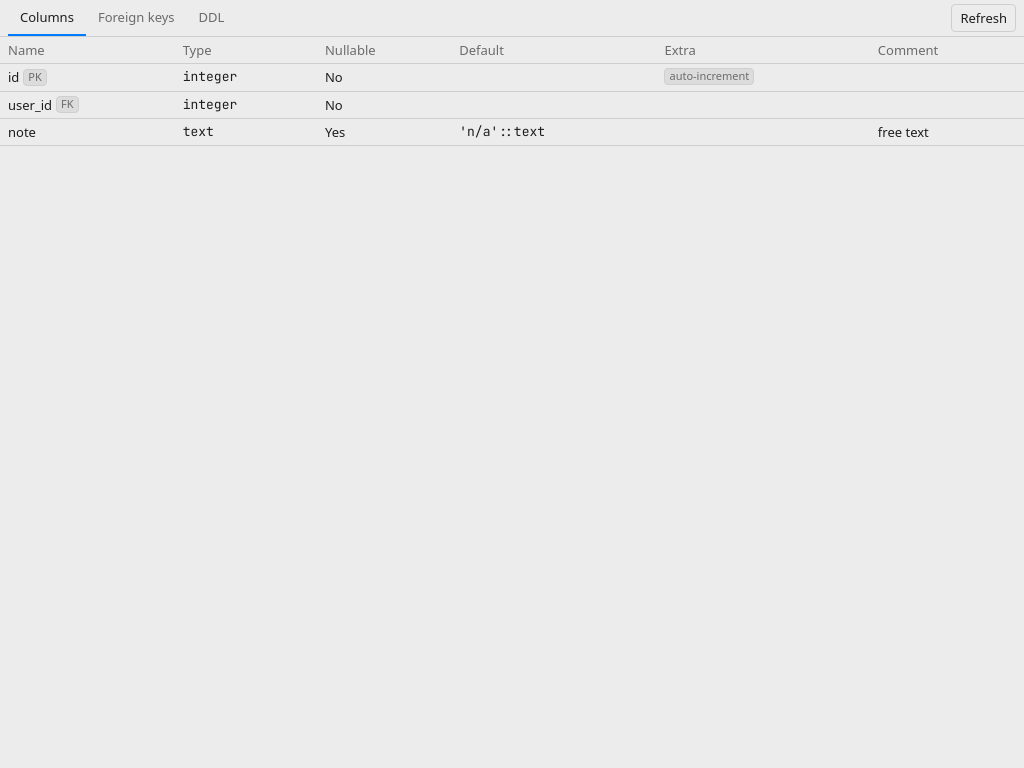
Test: the DDL uses the editor font settings like the SQL editor
This screenshot has width=1024, height=768.
Click the tab "DDL": coordinates (212, 18) 187,0 -> 236,36
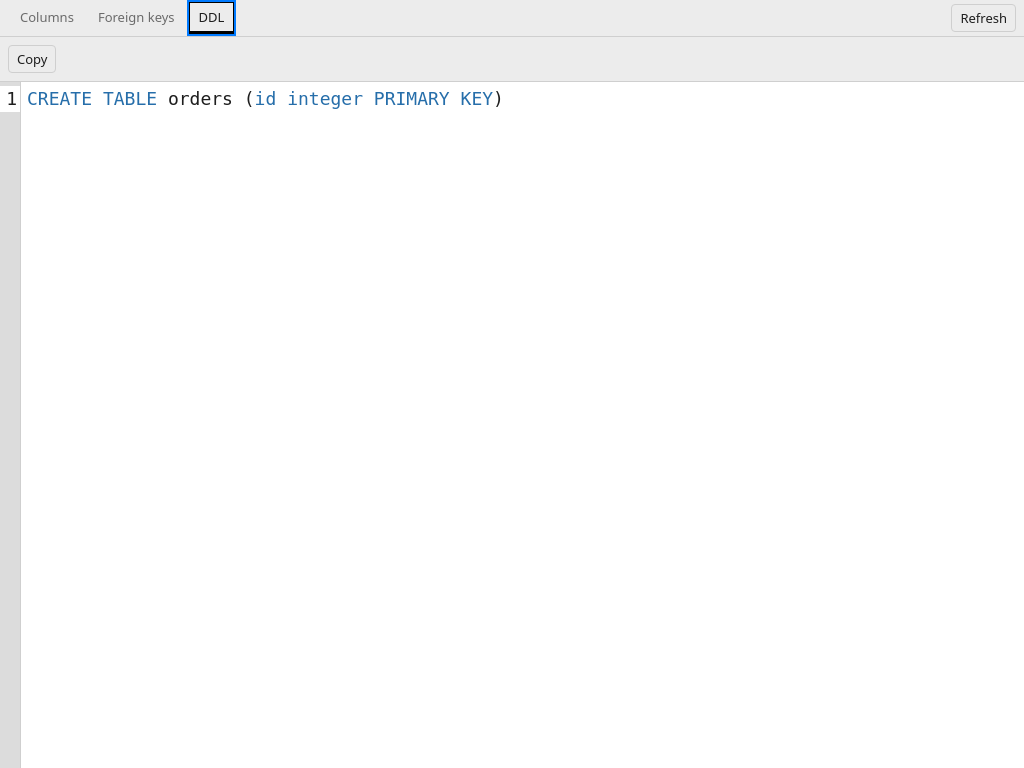
expect the element named "Table DDL" shows "CREATE TABLE orders (id integer PRIMARY KEY)": met
